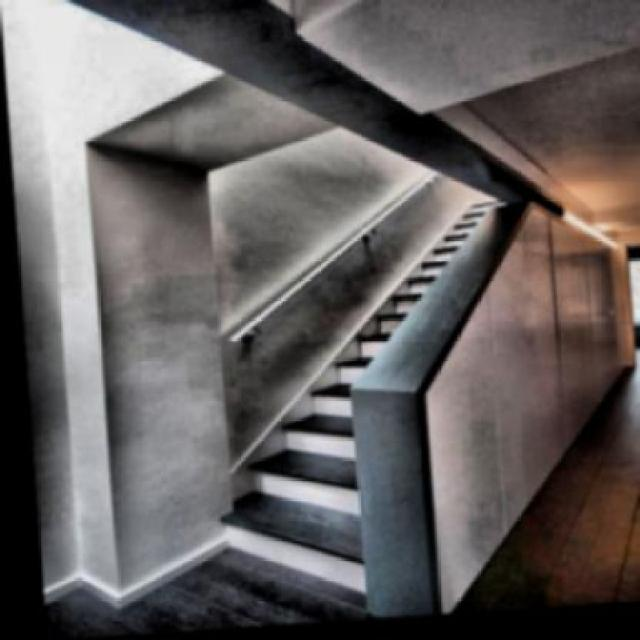stair: (197, 194, 521, 629)
